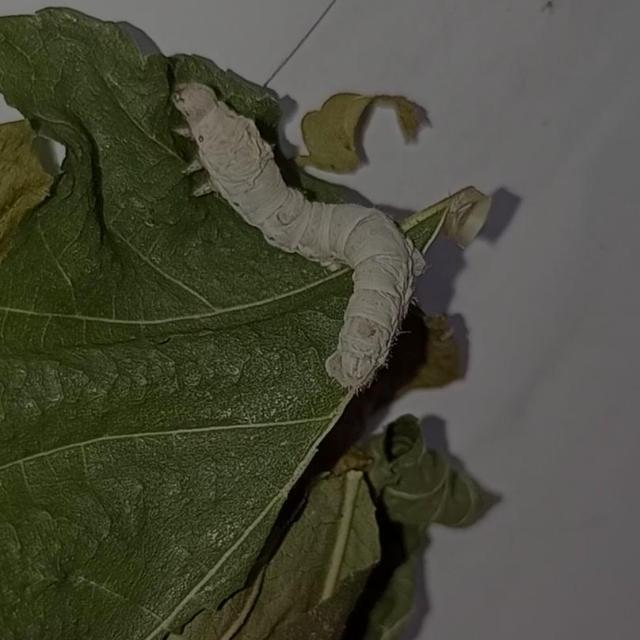Healthy: (156, 59, 438, 404)
